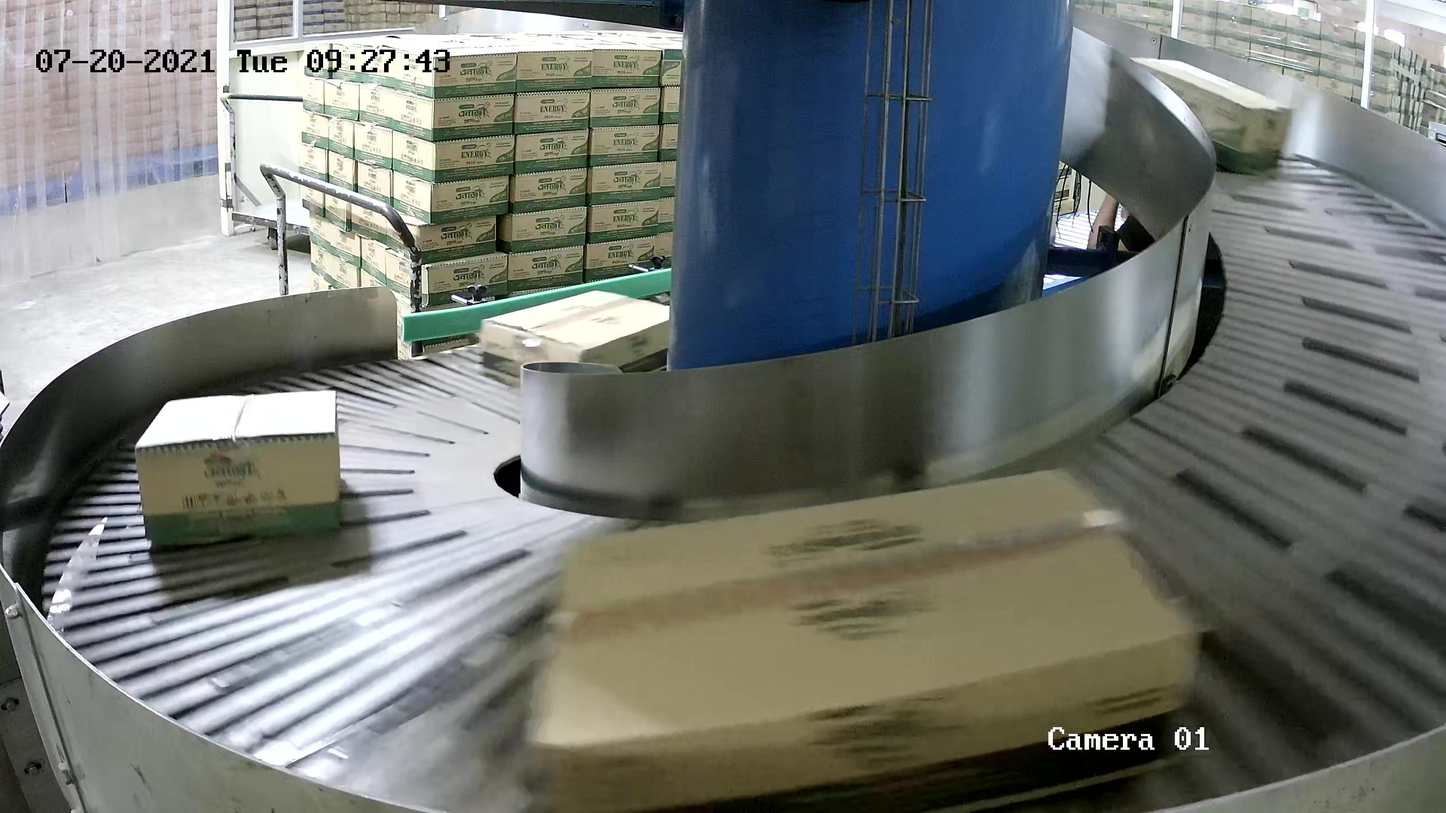Box: (524, 465, 1205, 813), (137, 390, 343, 548), (479, 290, 685, 398), (1116, 56, 1297, 177)
